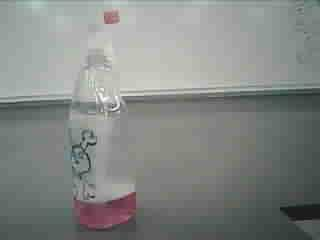hazard: (60, 6, 149, 235)
